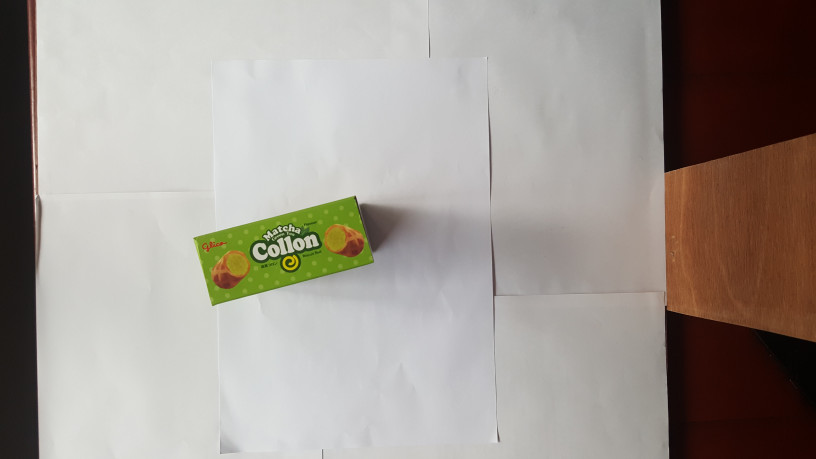collon-matcha: (193, 194, 377, 308)
